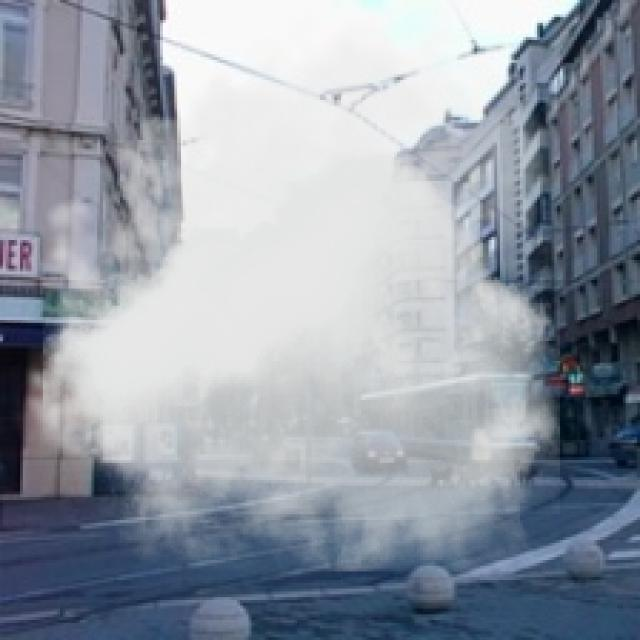Smoke: (8, 2, 560, 572)
